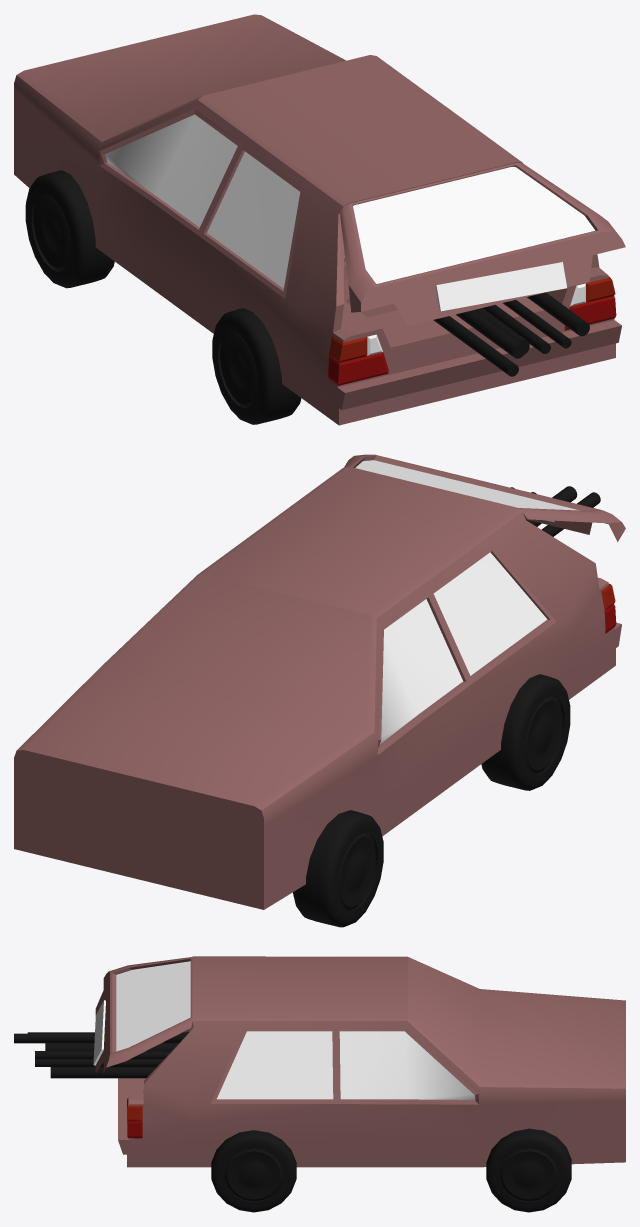
The model's file is Golf.fbx.
3 renders of one model, top to bottom at view 1: azimuth 30°, elevation 25°; view 2: azimuth 150°, elevation 25°; view 3: azimuth 270°, elevation 25°, orthographic. The views are drawn at different scales.
Visible parts, largest first — view 1: Box026; view 2: Box026; view 3: Box026.
Boxes of the visible parts, left/top/right/bottom form: Box026: left=14, top=14, right=625, bottom=425; Box026: left=14, top=454, right=625, bottom=927; Box026: left=14, top=956, right=625, bottom=1212.
Bounding box in the file's own units: 138 × 99.99 × 322.
